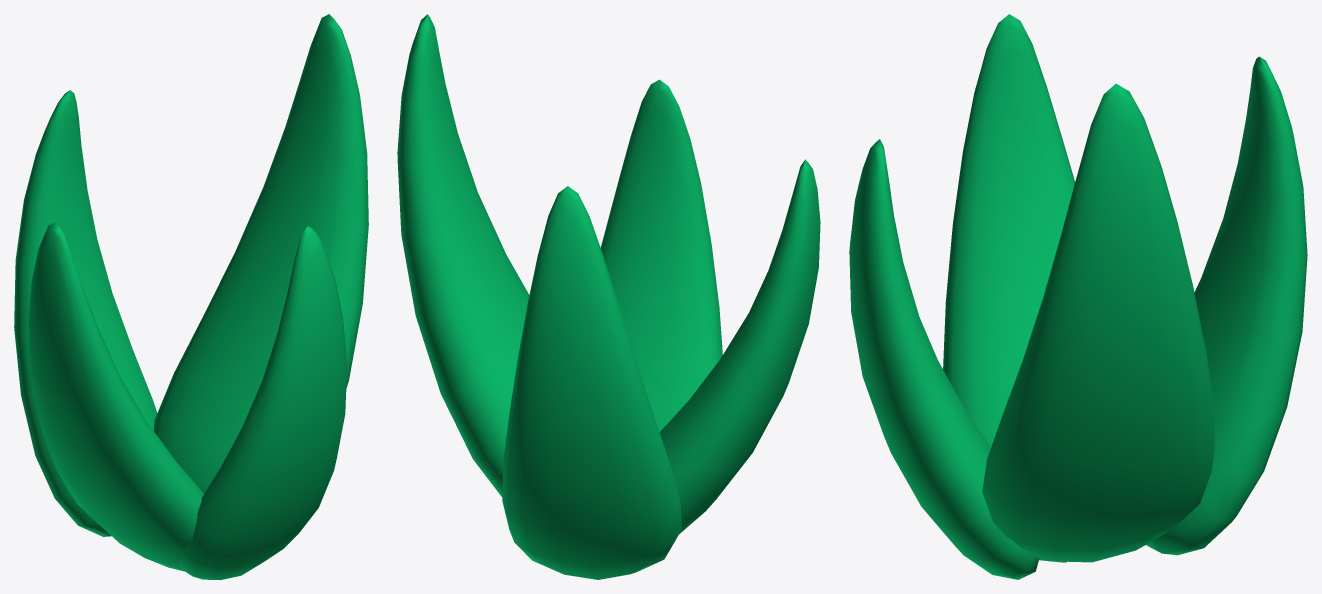
File: City_15_Grass_1.glb
3 renders of one model, left to right at view 1: azimuth 30°, elevation 25°; view 2: azimuth 150°, elevation 25°; view 3: azimuth 270°, elevation 25°, orthographic. The views are drawn at different scales.
Visible parts, largest first — view 1: City_15_Grass_1; view 2: City_15_Grass_1; view 3: City_15_Grass_1.
Boxes of the visible parts, x1,y1,x2,y2 form: City_15_Grass_1: [14, 14, 368, 579]; City_15_Grass_1: [397, 14, 820, 579]; City_15_Grass_1: [849, 14, 1307, 579].
Bounding box in the file's own units: 0.2054 × 0.2717 × 0.197.
1 material, 1 textured.
